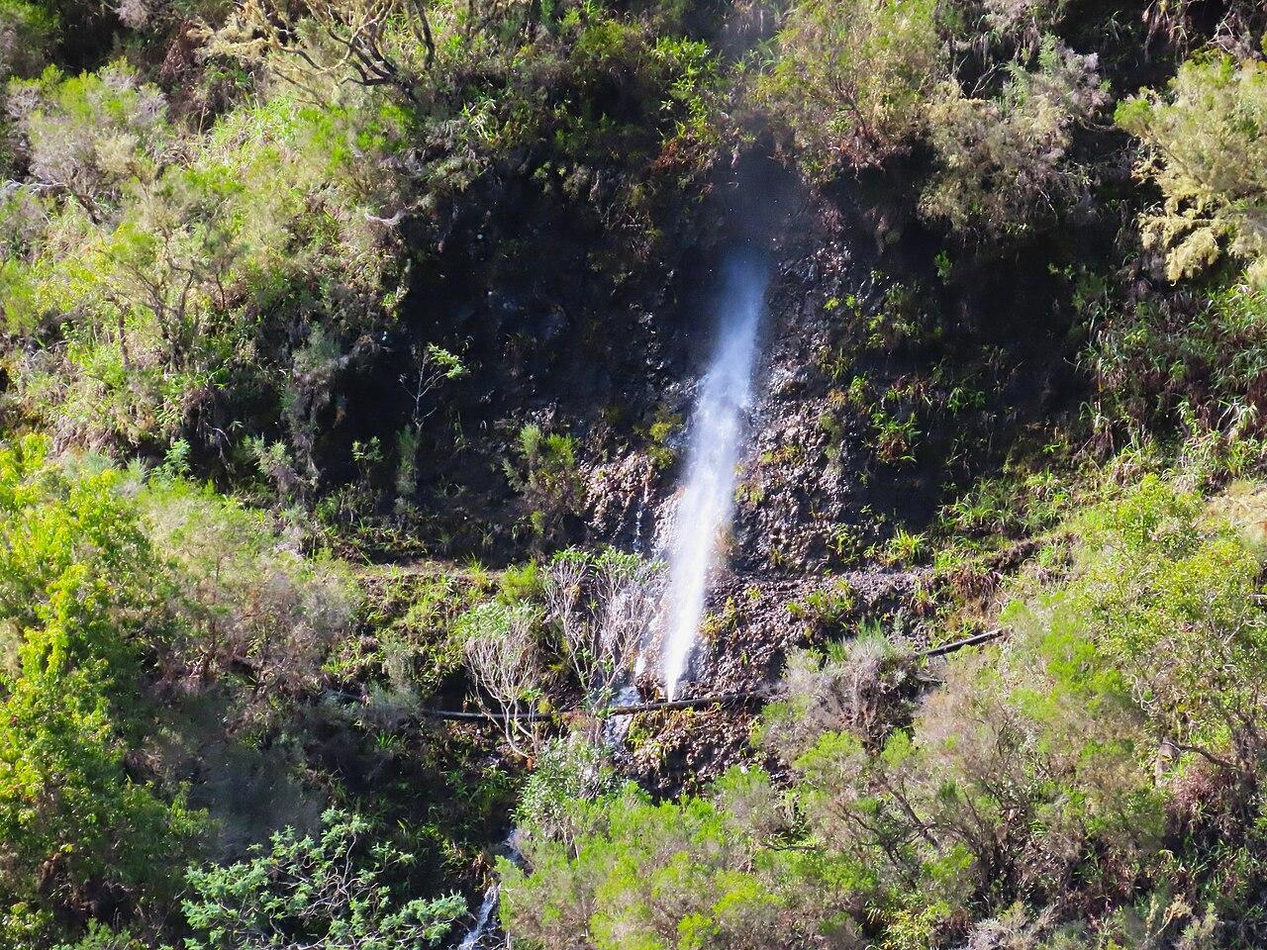pipe burst: (653, 268, 768, 711)
